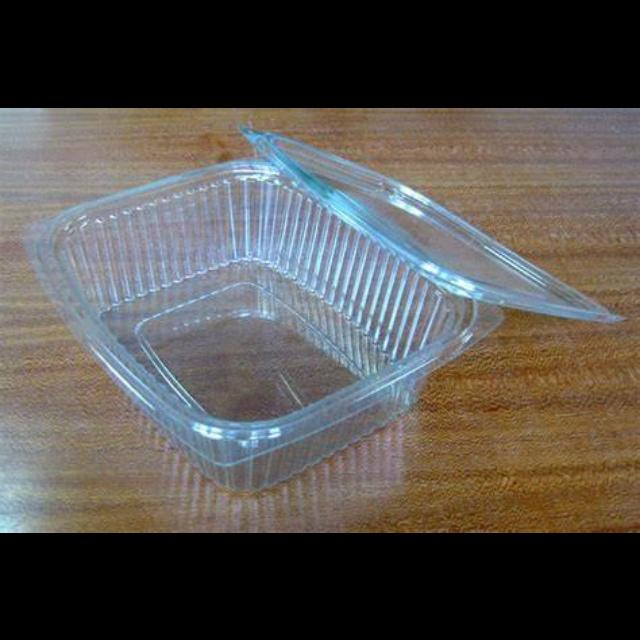plastic_box: (26, 124, 620, 488)
